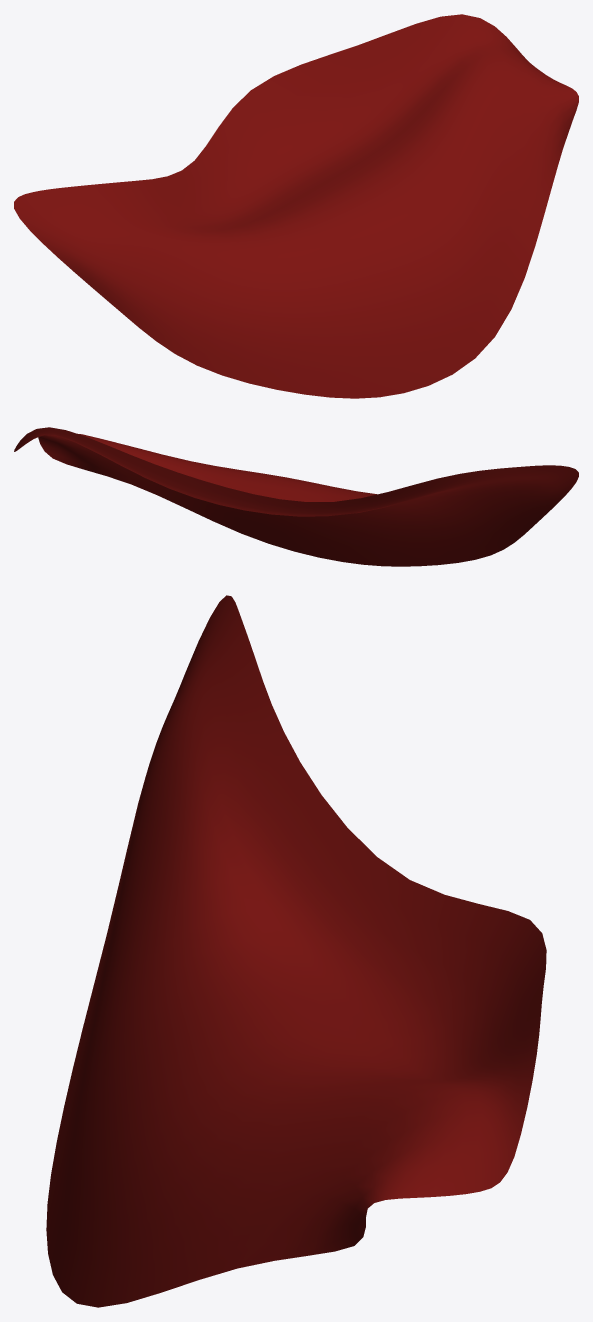
File: GEO_autumn_scarf_endpiece.obj
3 views of the same model, one above another, from view 1: azimuth 30°, elevation 25°; view 2: azimuth 150°, elevation 25°; view 3: azimuth 270°, elevation 25° (orthographic). The views are drawn at different scales.
Parts seen in each view (by area): view 1: GEO_autumn_scarf.endpiece; view 2: GEO_autumn_scarf.endpiece; view 3: GEO_autumn_scarf.endpiece.
Boxes of the visible parts, x1,y1,x2,y2 form: GEO_autumn_scarf.endpiece: (14,14,578,398); GEO_autumn_scarf.endpiece: (14,427,578,566); GEO_autumn_scarf.endpiece: (46,595,546,1307).
Bounding box in the file's own units: 0.0556 × 0.0206 × 0.0239.
